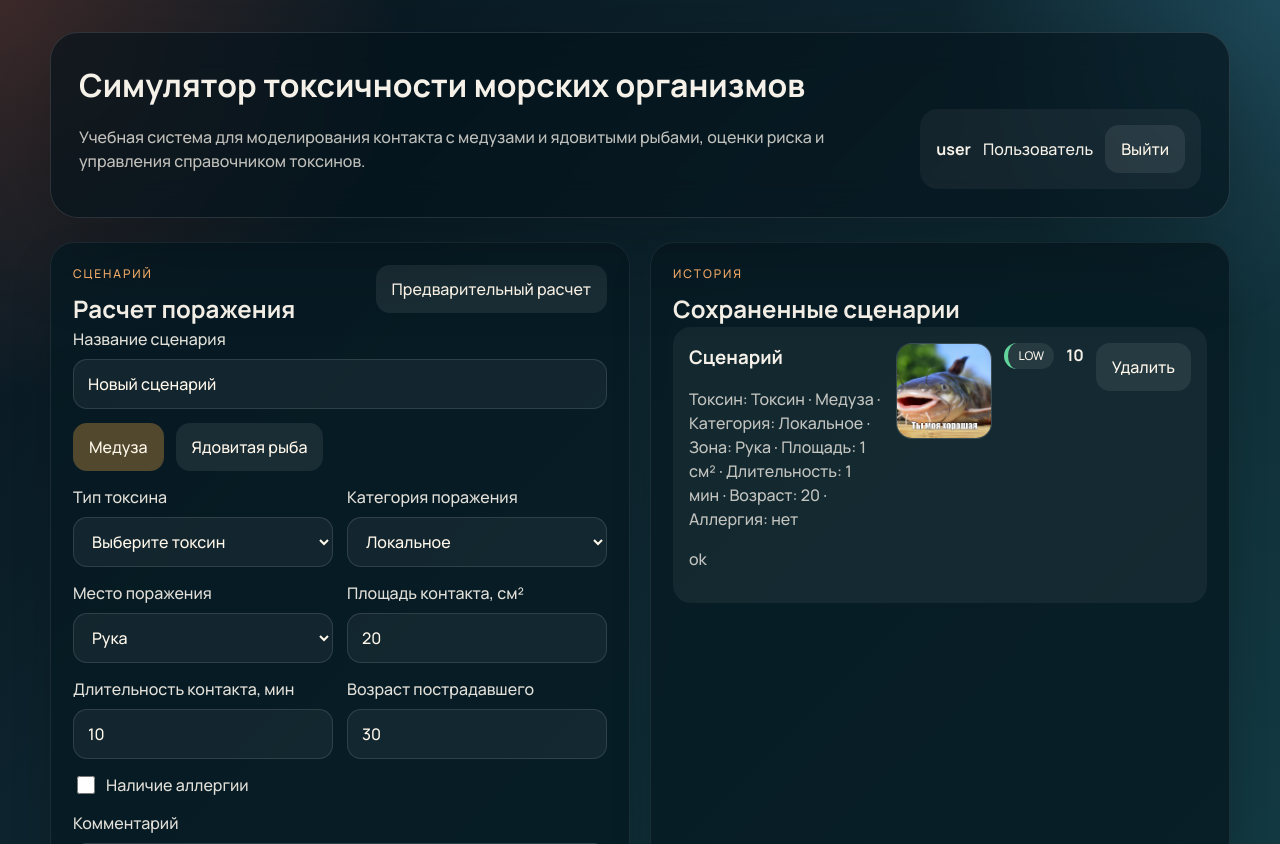
Test: App › shows scenario error when delete fails
Click the button "Удалить" at (1143, 367), box top-left (1096, 343), bottom-right (1191, 391)
(page scrolled)
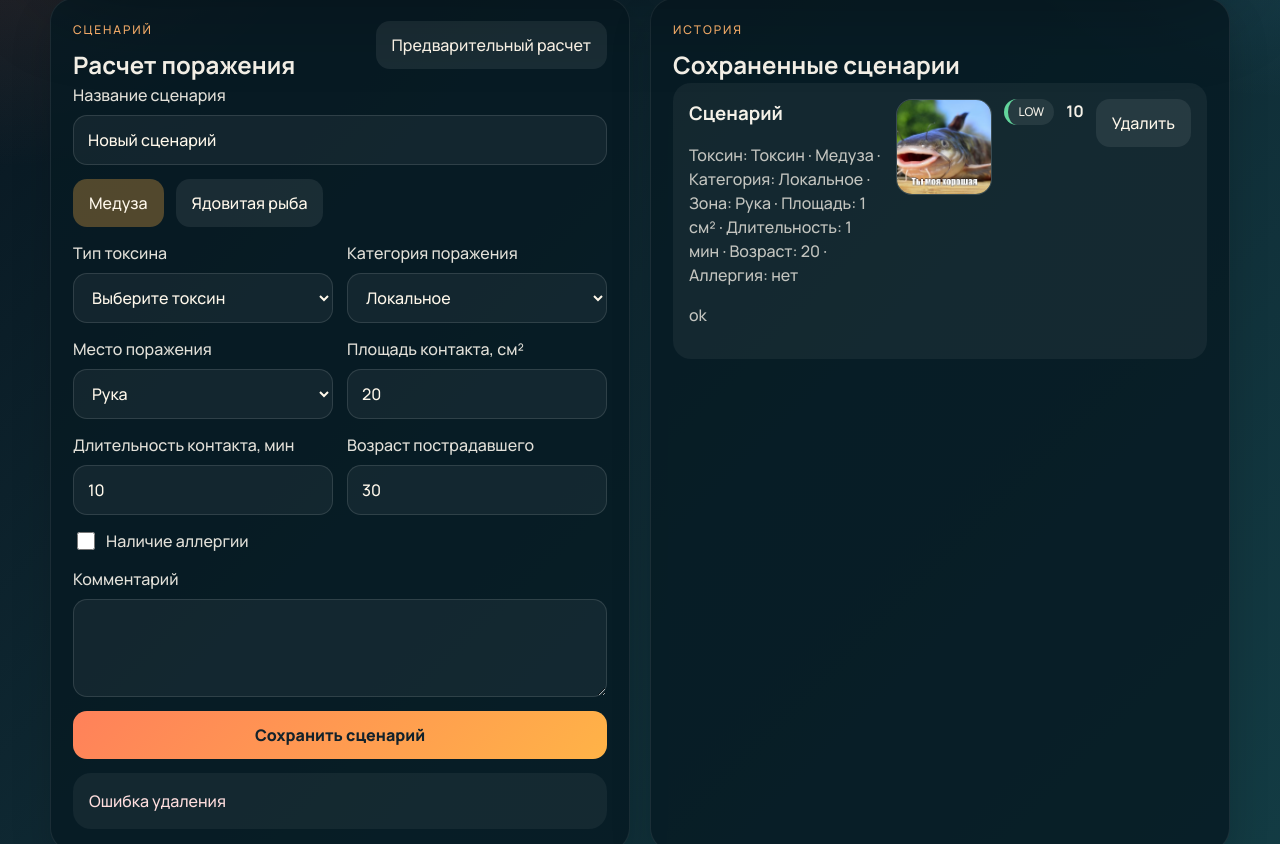
Result: the text "Ошибка удаления" is shown at top-left (73, 773), bottom-right (607, 829)
